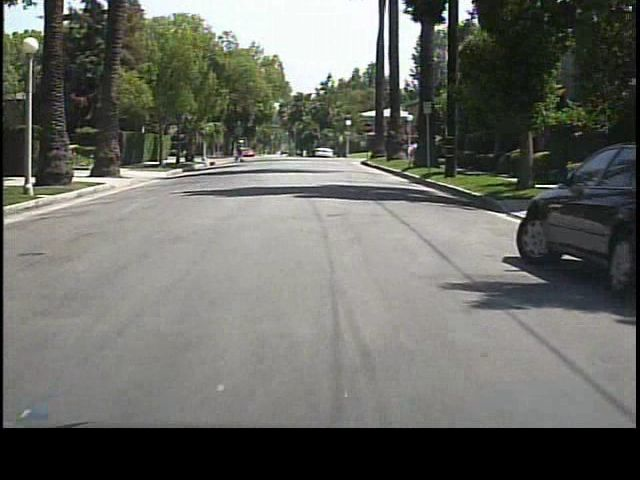person: (233, 133, 249, 165)
